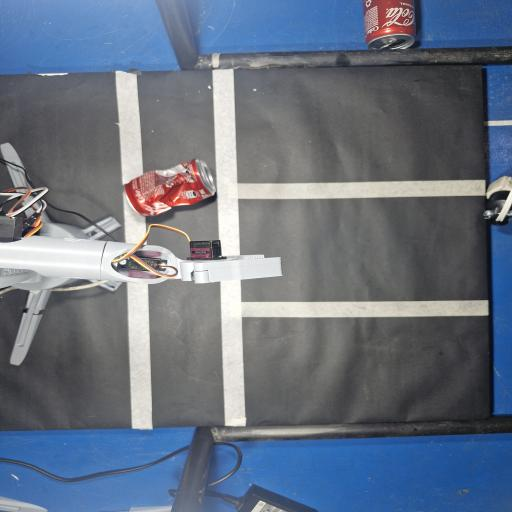lata_defectuoso: (124, 159, 216, 216)
